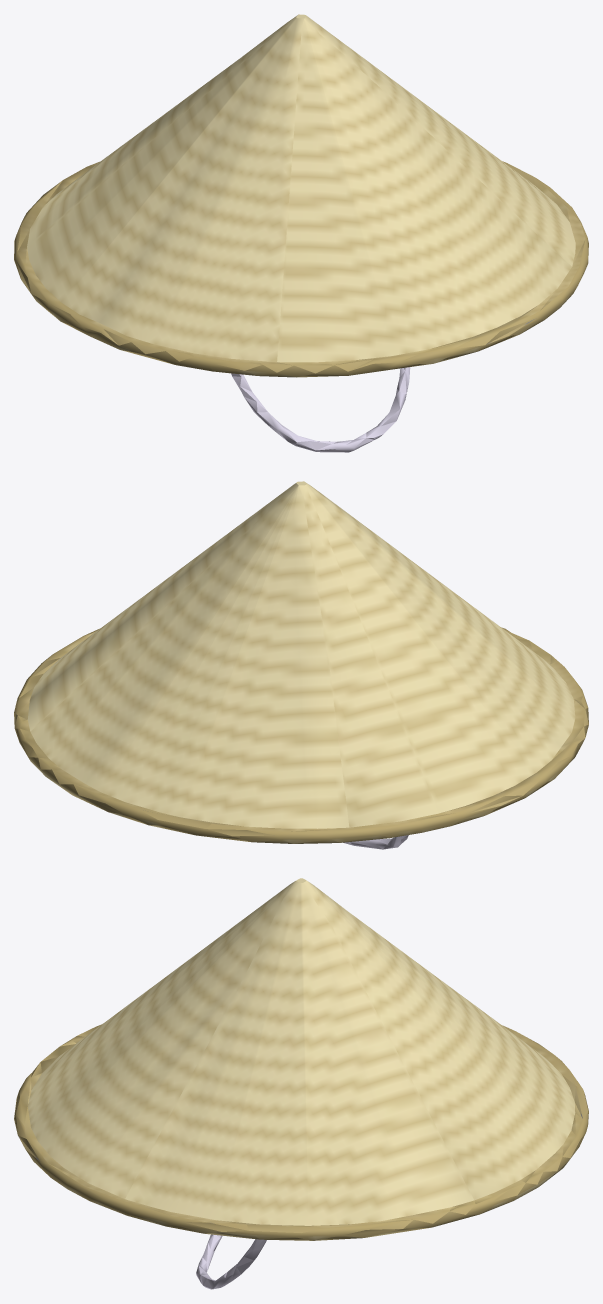
The model's file is non_la_edits.mid.glb.
3 views of the same model, one above another, from view 1: azimuth 30°, elevation 25°; view 2: azimuth 150°, elevation 25°; view 3: azimuth 270°, elevation 25° (orthographic).
Parts seen in each view (by area): view 1: non_la_edits; view 2: non_la_edits; view 3: non_la_edits.
Part boxes in pixels (<box>): non_la_edits: <box>14,14,588,452</box>; non_la_edits: <box>14,481,588,849</box>; non_la_edits: <box>14,878,588,1289</box>.
Size of the model in its own units: 0.4138 by 0.3156 by 0.4138.
1 material, 1 textured.
